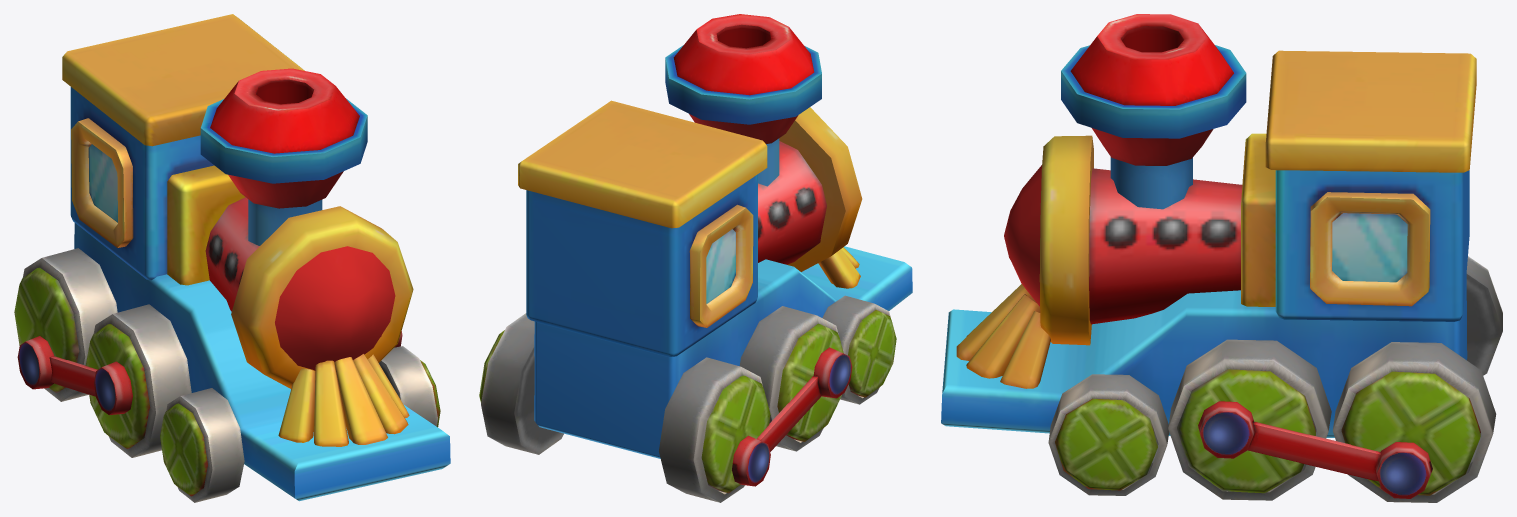
The model's file is 0-train_allcolors.fbx.
The picture shows the model from 3 angles, left to right: view 1: azimuth 30°, elevation 25°; view 2: azimuth 150°, elevation 25°; view 3: azimuth 270°, elevation 25°; orthographic projection. The views are drawn at different scales.
Parts seen in each view (by area): view 1: 0-train_allcolors; view 2: 0-train_allcolors; view 3: 0-train_allcolors.
Boxes of the visible parts, left/top/right/bottom form: 0-train_allcolors: left=14, top=14, right=450, bottom=502; 0-train_allcolors: left=479, top=14, right=912, bottom=502; 0-train_allcolors: left=941, top=14, right=1502, bottom=502.
Bounding box in the file's own units: 61.39 × 75.22 × 95.37.
